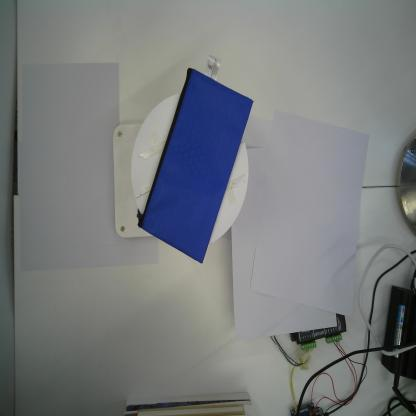Stationery: (137, 67, 254, 265)
